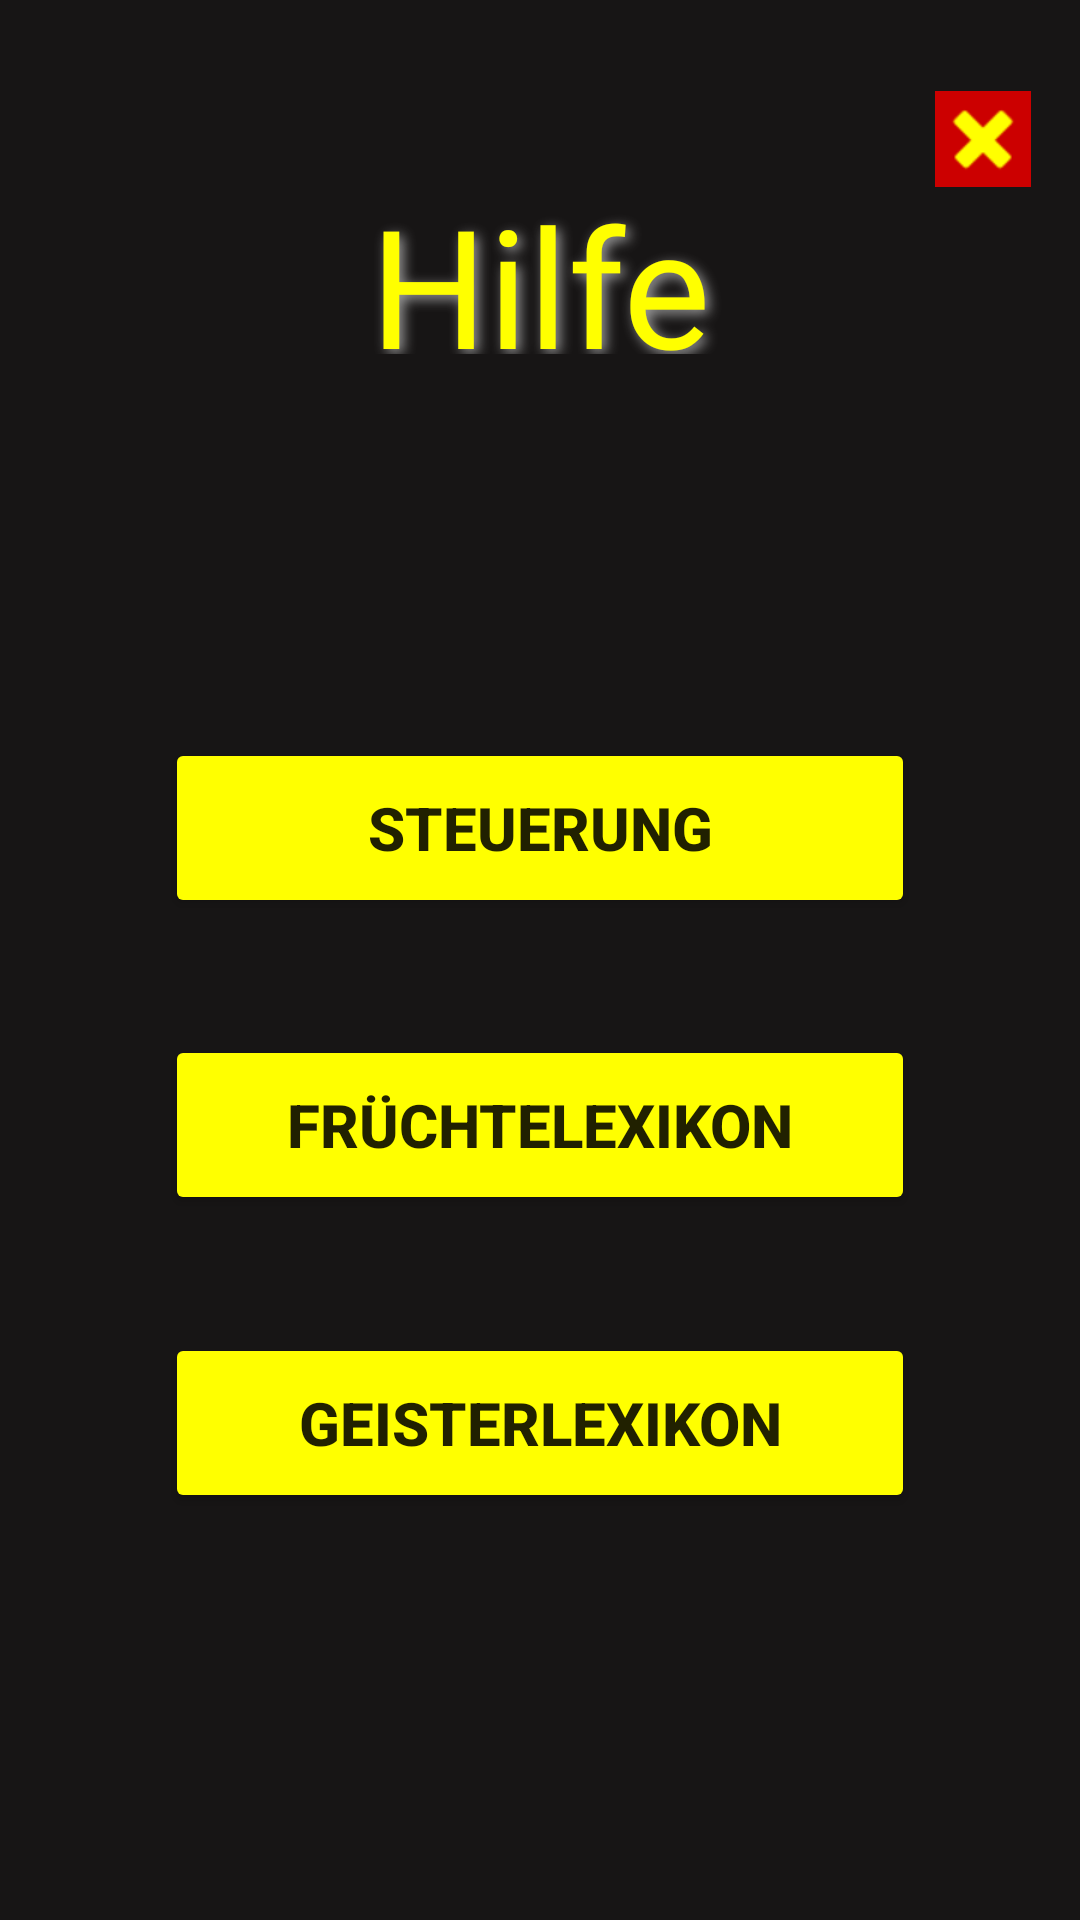

Icons on this 1080 × 1920 Android screen, each with its box as (x1, y1, x2, y2):
delete: (935, 91, 1031, 187)
